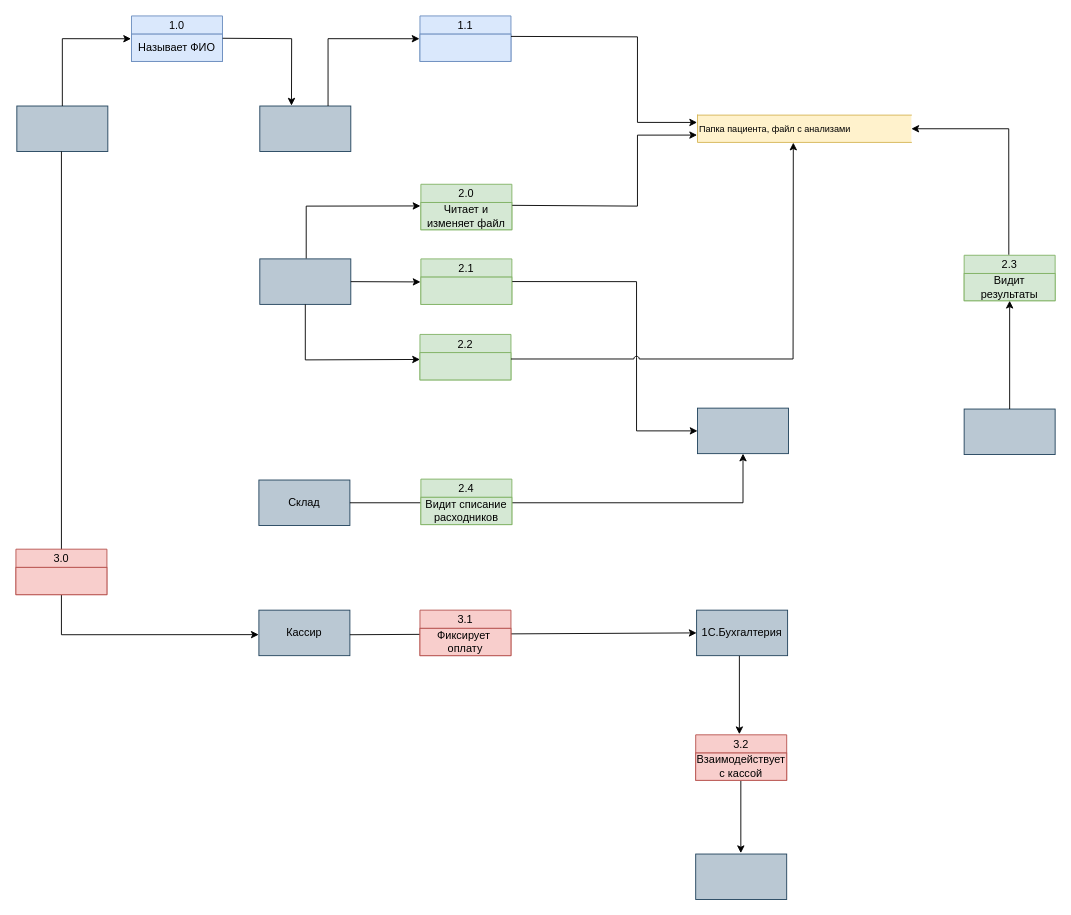
This 1071x915 diagram has some shape labels left out. The shapes that lost their labels are listed below. From the top down, each one's centre as x and y in pixels, then its label:
the point at 465,47: Создаёт файл для анализов
the point at 62,128: Пациент
the point at 305,128: Администратор
the point at 305,281: Мед.сестра
the point at 466,290: Списывает расх.материалы
the point at 465,366: Вносит результаты
the point at 743,430: 1С.Торговля
the point at 1009,431: Врач
the point at 61,580: Производит оплату
the point at 741,876: ККМ
